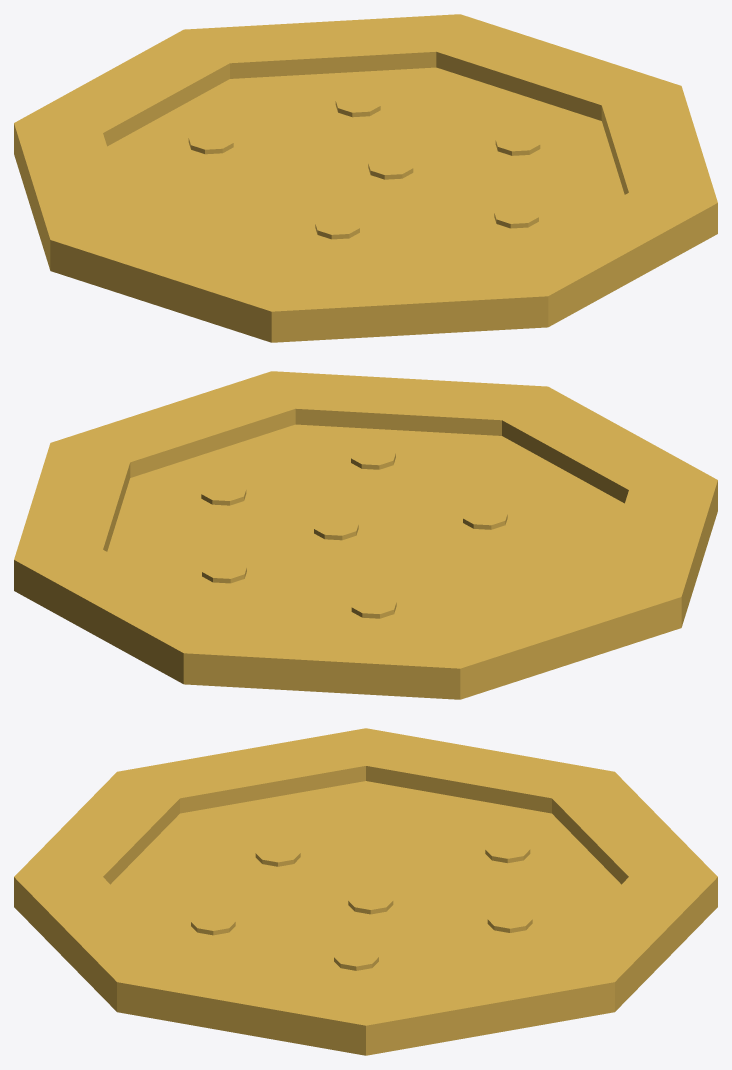
The model's file is gutter lid.fbx.
3 renders of one model, top to bottom at view 1: azimuth 30°, elevation 25°; view 2: azimuth 150°, elevation 25°; view 3: azimuth 270°, elevation 25°, orthographic. The views are drawn at different scales.
Parts seen in each view (by area): view 1: gutter lid; view 2: gutter lid; view 3: gutter lid.
Boxes of the visible parts, bbox=[...] form: gutter lid: bbox=[14, 14, 717, 342]; gutter lid: bbox=[14, 371, 717, 699]; gutter lid: bbox=[14, 728, 717, 1055].
Bounding box in the file's own units: 68.54 × 3.23 × 68.54.
